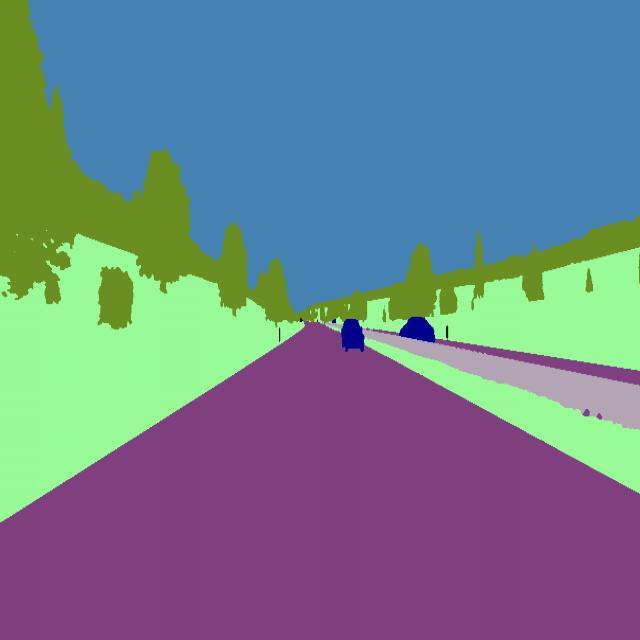safe: (398, 312, 440, 347), (338, 314, 370, 358)
